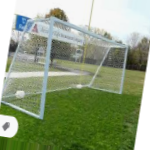goals: (6, 16, 130, 119)
